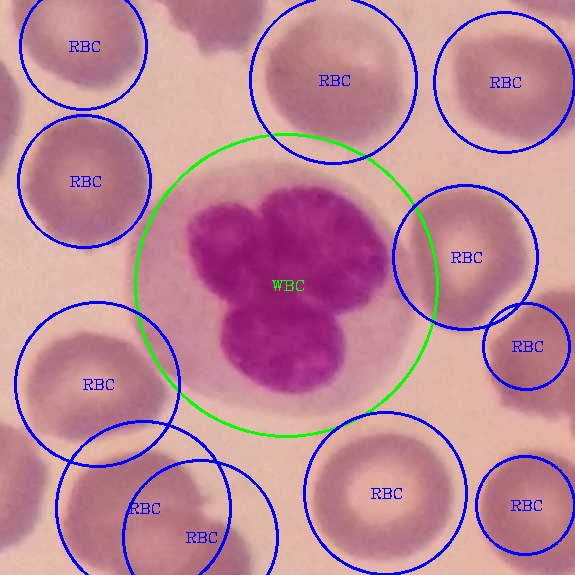RBC: (262, 0, 406, 154), (308, 424, 459, 567), (56, 444, 210, 574), (20, 110, 152, 256), (411, 182, 535, 337), (21, 325, 173, 447), (448, 24, 574, 146), (486, 281, 573, 441), (5, 0, 144, 97), (476, 446, 574, 574), (110, 506, 260, 574)
WBC: (111, 153, 412, 414)
